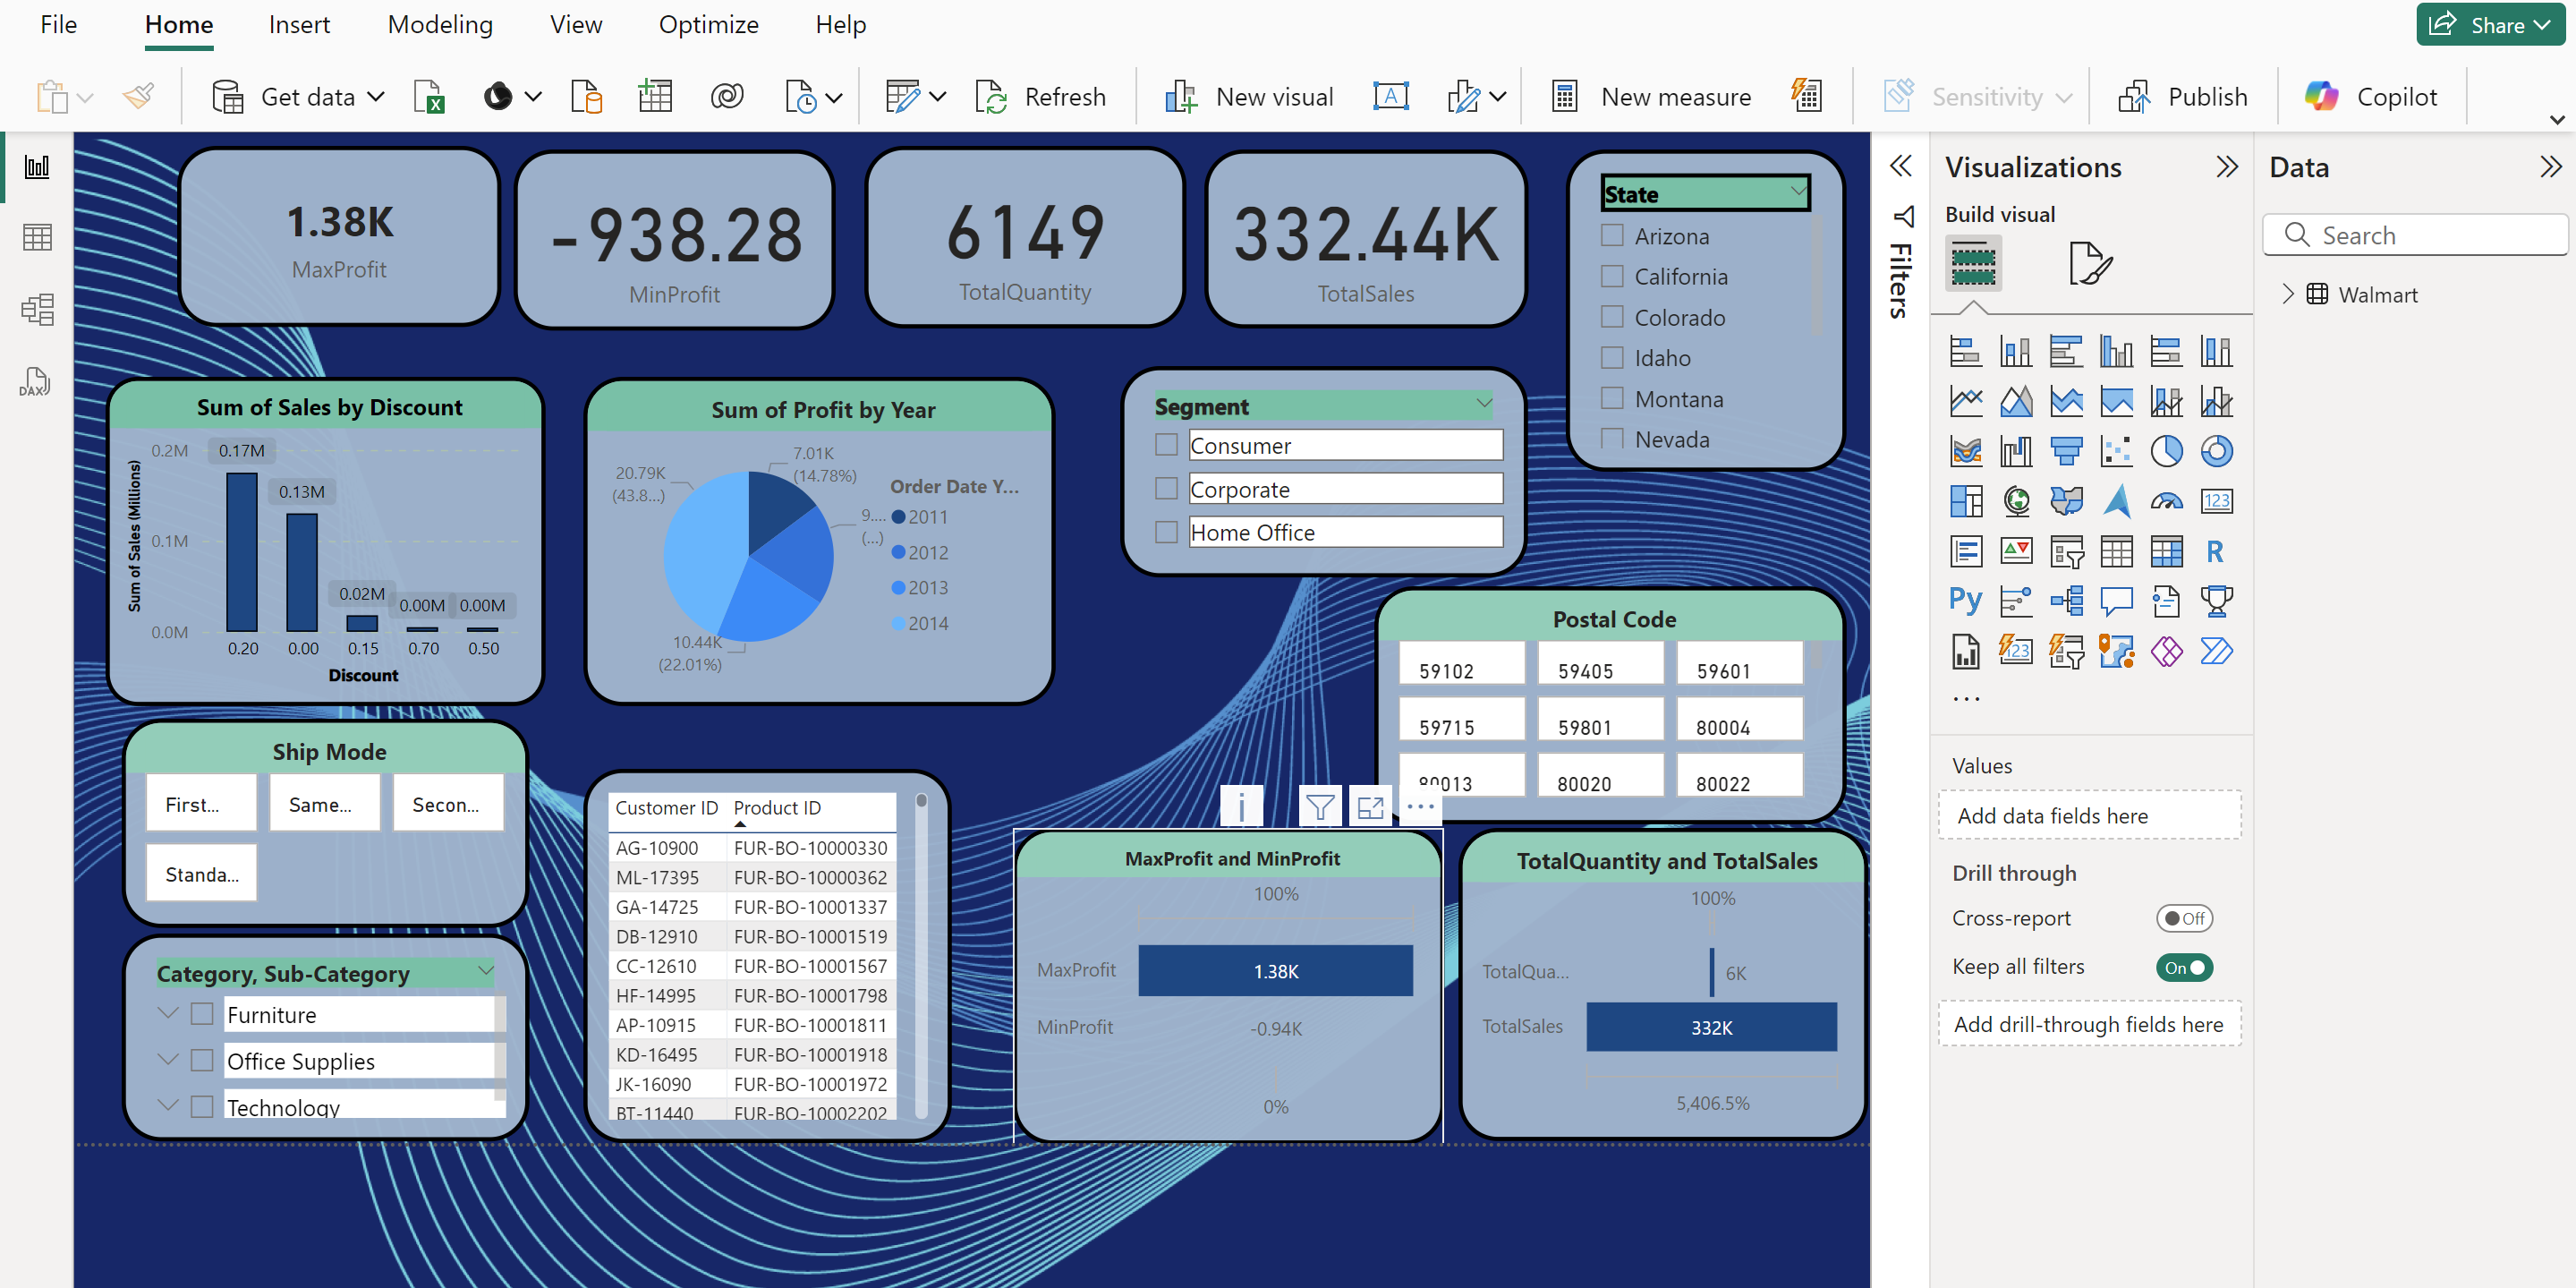

What the dashboard file says about the page in this screenshot:
{"tool":"powerbi","page":{"name":"Page 1","canvas":[1280,720],"ordinal":0},"visuals":[{"type":"clusteredColumnChart","fields":{"Y":["Sum(Walmart.Sales)"],"Category":["Walmart.Discount"]},"box":[22.9,174.7,313.6,234.6],"z":0},{"type":"pieChart","fields":{"Category":["Walmart.Order Date.Variation.Date Hierarchy.Year","Walmart.Order Date.Variation.Date Hierarchy.Quarter","Walmart.Order Date.Variation.Date Hierarchy.Month","Walmart.Order Date.Variation.Date Hierarchy.Day"],"Y":["Sum(Walmart.Profit)"]},"box":[363.3,174.7,336.6,234.6],"z":1000},{"type":"slicer","fields":{"Values":["Walmart.State"]},"box":[1063.3,12.7,200.2,229.5],"z":2000},{"type":"card","fields":{"Values":["Walmart.MaxProfit"]},"box":[73.9,10.2,230.8,128.8],"z":3000},{"type":"advancedSlicerVisual","fields":{"Values":["Walmart.Postal Code"]},"box":[926.9,323.8,336.6,169.6],"z":4000},{"type":"card","fields":{"Values":["Walmart.MinProfit"]},"box":[313.6,12.7,229.5,128.8],"z":5000},{"type":"card","fields":{"Values":["Walmart.TotalQuantity"]},"box":[563.5,10.2,229.5,130],"z":6000},{"type":"card","fields":{"Values":["Walmart.TotalSales"]},"box":[805.7,12.7,230.8,127.5],"z":7000},{"type":"funnel","fields":{"Y":["Walmart.MaxProfit","Walmart.MinProfit"]},"box":[669.3,495.9,307.3,225.7],"z":8000},{"type":"funnel","fields":{"Y":["Walmart.TotalQuantity","Walmart.TotalSales"]},"box":[986.8,495.9,292,223.1],"z":9000},{"type":"advancedSlicerVisual","fields":{"Values":["Walmart.Ship Mode"]},"box":[34.4,418.2,290.7,149.2],"z":10000},{"type":"slicer","fields":{"Values":["Walmart.Segment"]},"box":[745.8,167,290.7,150.4],"z":11000},{"type":"tableEx","fields":{"Values":["Walmart.Customer ID","Walmart.Product ID"]},"box":[363.3,453.9,262.6,266.5],"z":12000},{"type":"slicer","fields":{"Values":["Walmart.Category","Walmart.Sub-Category"]},"box":[34.4,571.2,290.7,147.9],"z":13000}]}

Visuals, with their boxes on the page's 1280x720 design canvas (x1, y1, x2, y2). These are canvas units, not pixel positions in the 2576x1288 screenshot, which may show the page scaled, cropped or inside an application window:
clusteredColumnChart - Sum(Walmart.Sales) x Walmart.Discount: bbox=(23, 175, 336, 409)
pieChart - Walmart.Order Date.Variation.Date Hierarchy.Year x Walmart.Order Date.Variation.Date Hierarchy.Quarter: bbox=(363, 175, 700, 409)
slicer - Walmart.State: bbox=(1063, 13, 1264, 242)
card - Walmart.MaxProfit: bbox=(74, 10, 305, 139)
advancedSlicerVisual - Walmart.Postal Code: bbox=(927, 324, 1264, 493)
card - Walmart.MinProfit: bbox=(314, 13, 543, 142)
card - Walmart.TotalQuantity: bbox=(564, 10, 793, 140)
card - Walmart.TotalSales: bbox=(806, 13, 1036, 140)
funnel - Walmart.MaxProfit x Walmart.MinProfit: bbox=(669, 496, 977, 722)
funnel - Walmart.TotalQuantity x Walmart.TotalSales: bbox=(987, 496, 1279, 719)
advancedSlicerVisual - Walmart.Ship Mode: bbox=(34, 418, 325, 567)
slicer - Walmart.Segment: bbox=(746, 167, 1036, 317)
tableEx - Walmart.Customer ID x Walmart.Product ID: bbox=(363, 454, 626, 720)
slicer - Walmart.Category x Walmart.Sub-Category: bbox=(34, 571, 325, 719)
